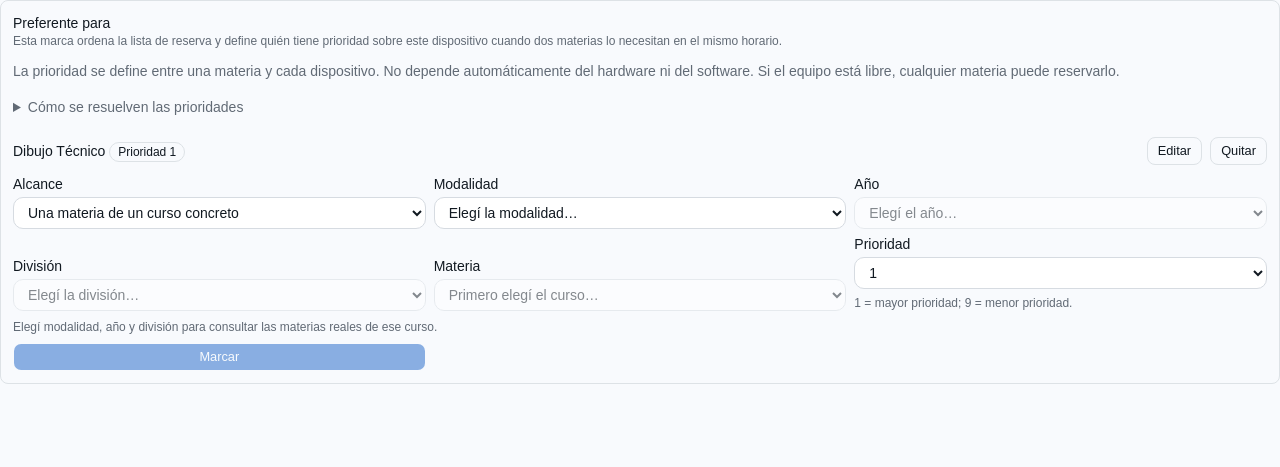
it: PreferenciasDeEquipo › avisa cuando la prioridad elegida ya la usa otra materia
Check: the list named "Marcas de este equipo" is shown, box x1=13 y1=137 x2=1267 y2=165
Select "Regla general para varios cursos o espacios" in the dropdown labelled "Alcance". click: (219, 213)
box: x1=13 y1=197 x2=426 y2=229
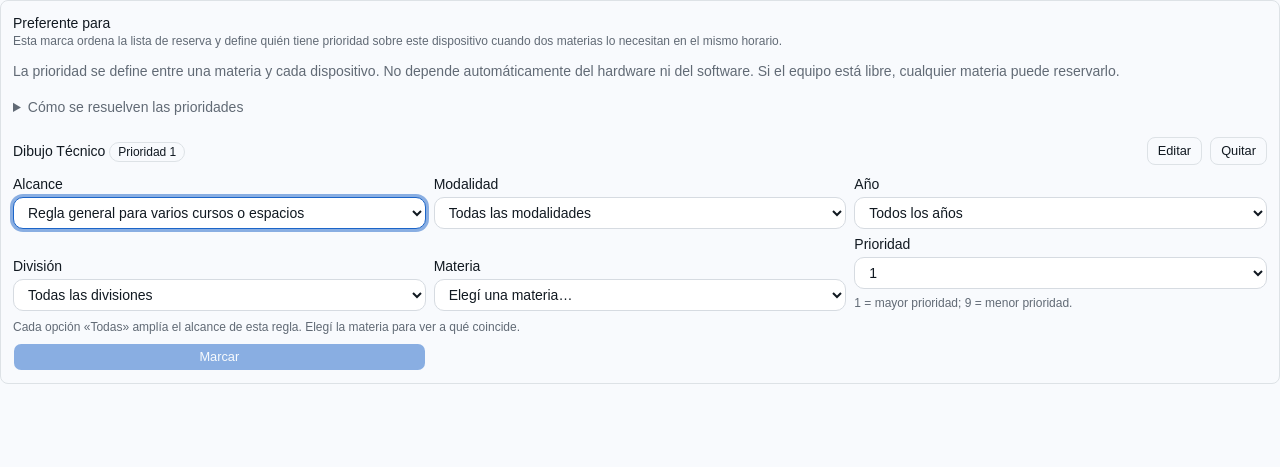
Select "Dibujo Técnico" in the dropdown labelled "Materia". click: (640, 295)
box: x1=434 y1=279 x2=846 y2=311
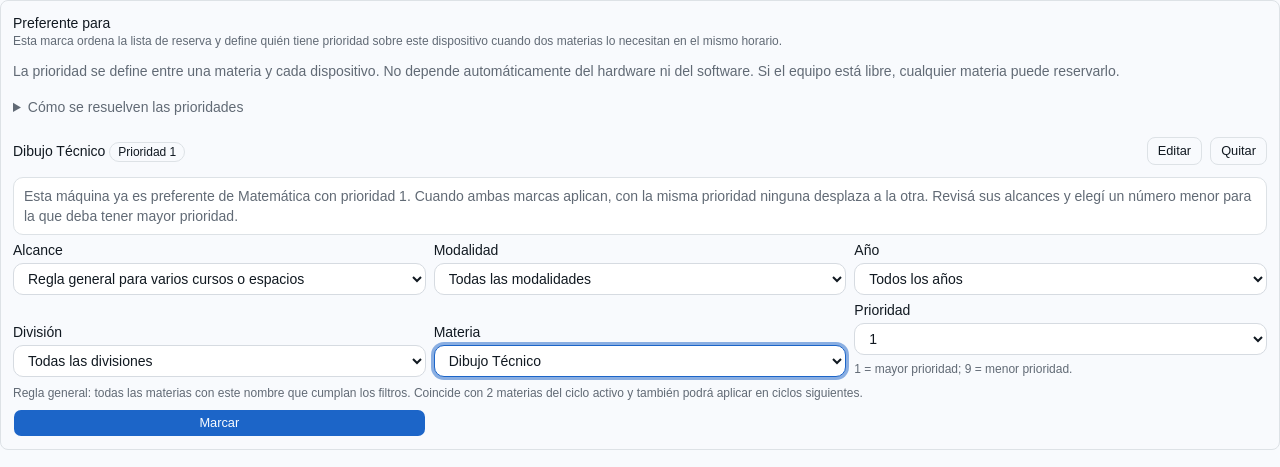
Check: the text "ya es preferente de Matemática con prioridad 1" is shown, box x1=24 y1=186 x2=1256 y2=226
